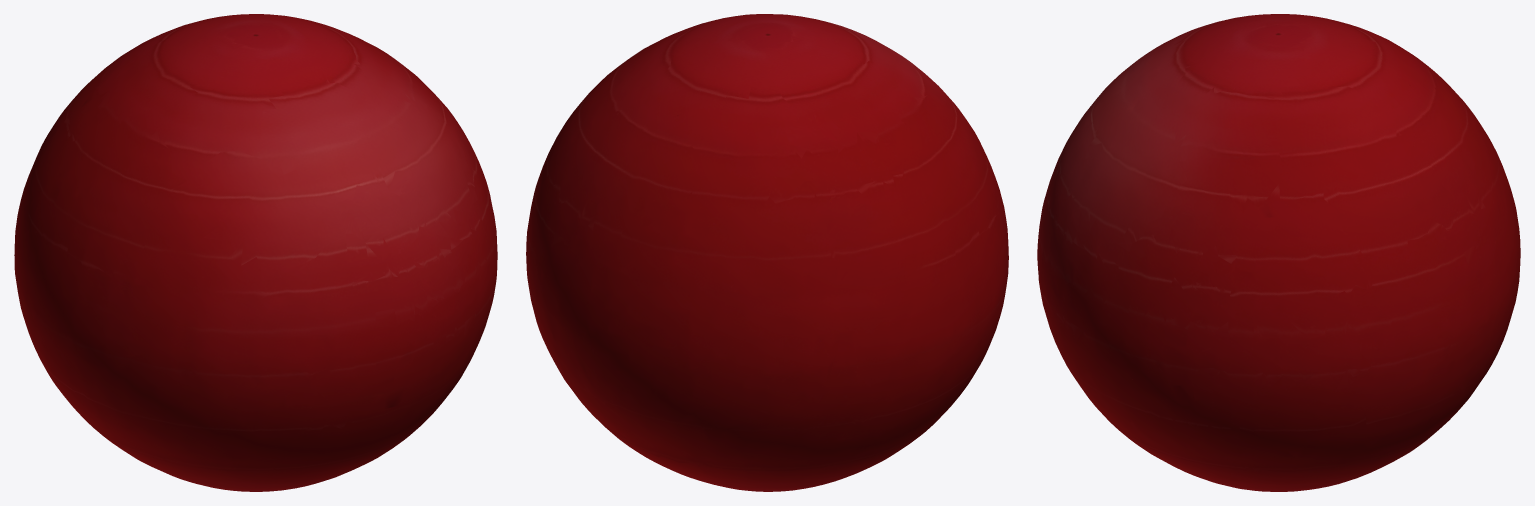
File: red_ball_lod.glb
The picture shows the model from 3 angles, left to right: view 1: azimuth 30°, elevation 25°; view 2: azimuth 150°, elevation 25°; view 3: azimuth 270°, elevation 25°; orthographic projection.
Visible parts, largest first — view 1: world; view 2: world; view 3: world.
Boxes of the visible parts, x1,y1,x2,y2 form: world: (14,14,497,491); world: (526,14,1008,491); world: (1037,14,1520,491).
Bounding box in the file's own units: 1 × 0.9984 × 0.9975.
Materials: 1 (1 with a texture image).
